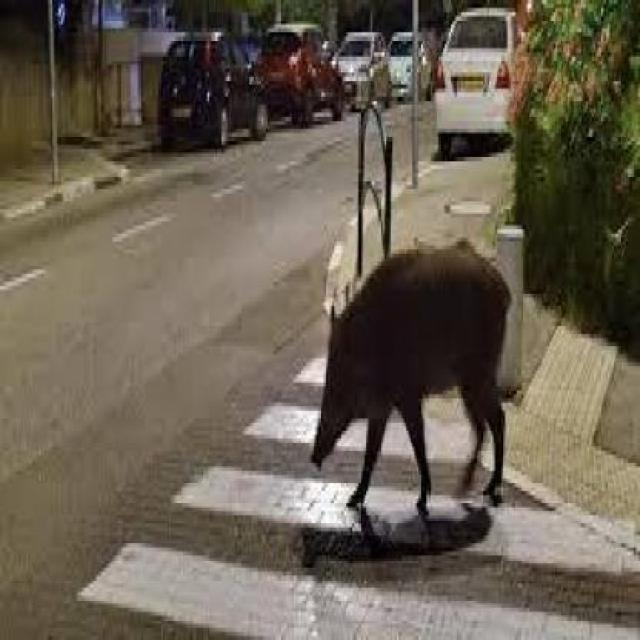wildboar: (306, 229, 522, 543)
